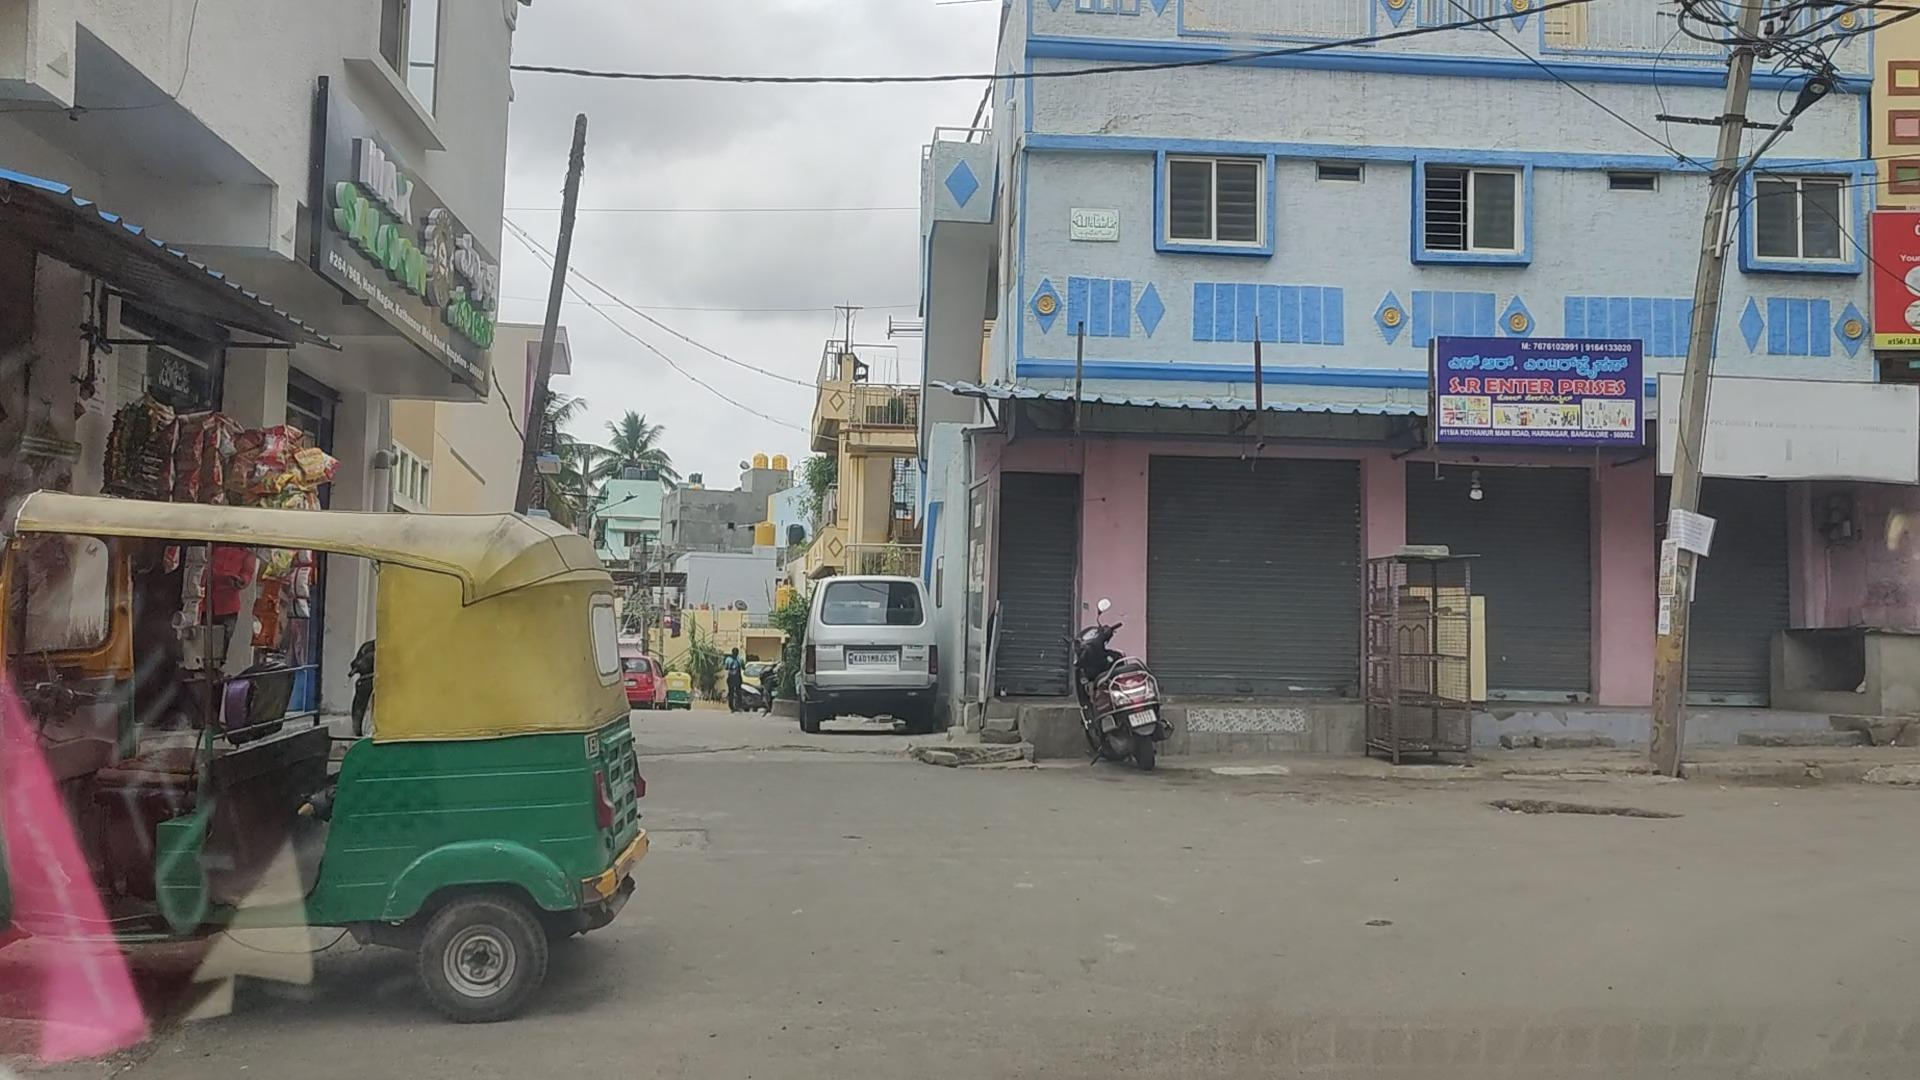RoadDamages: (1493, 770, 1685, 841)
